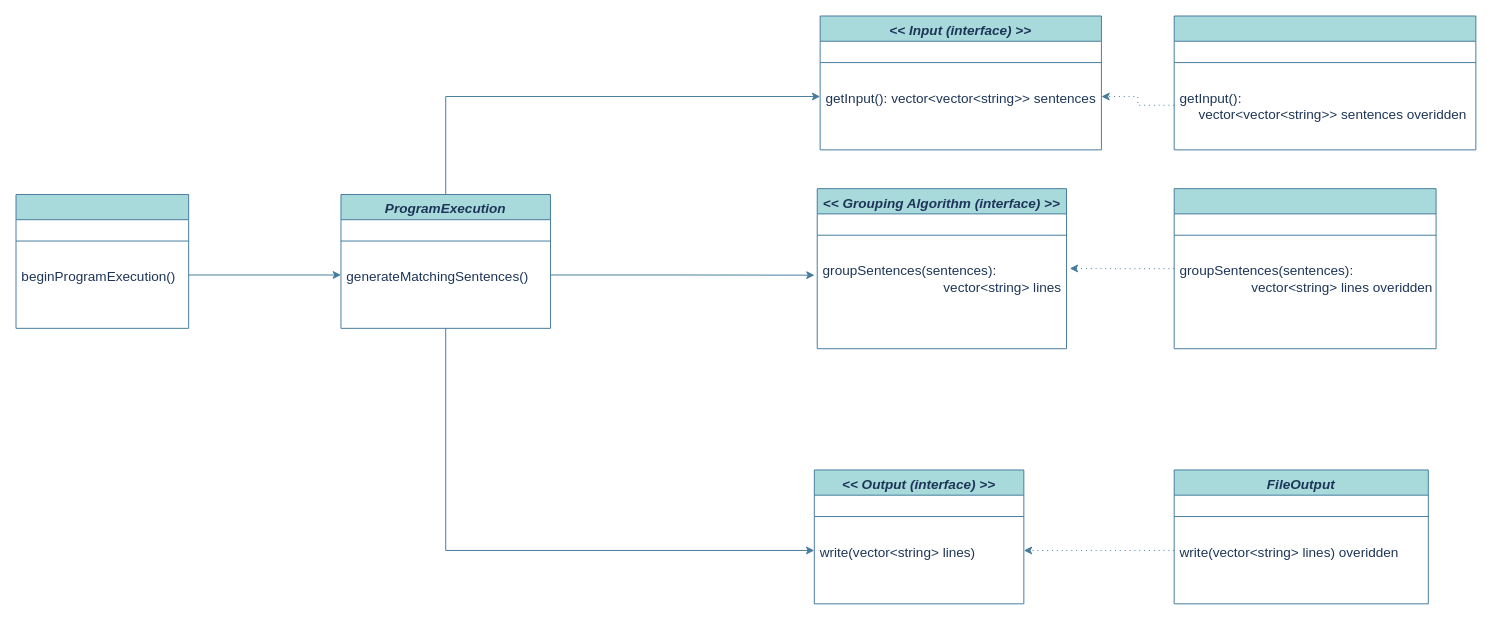
This 1492x620 diagram has some shape labels left out. The box of each missing label's shape, as (x1, y1, x2, y2) in pixels:
Driver: (15, 194, 189, 328)
FileInput: (1173, 15, 1476, 150)
Hashmap Grouping Algorithm: (1173, 188, 1436, 349)
